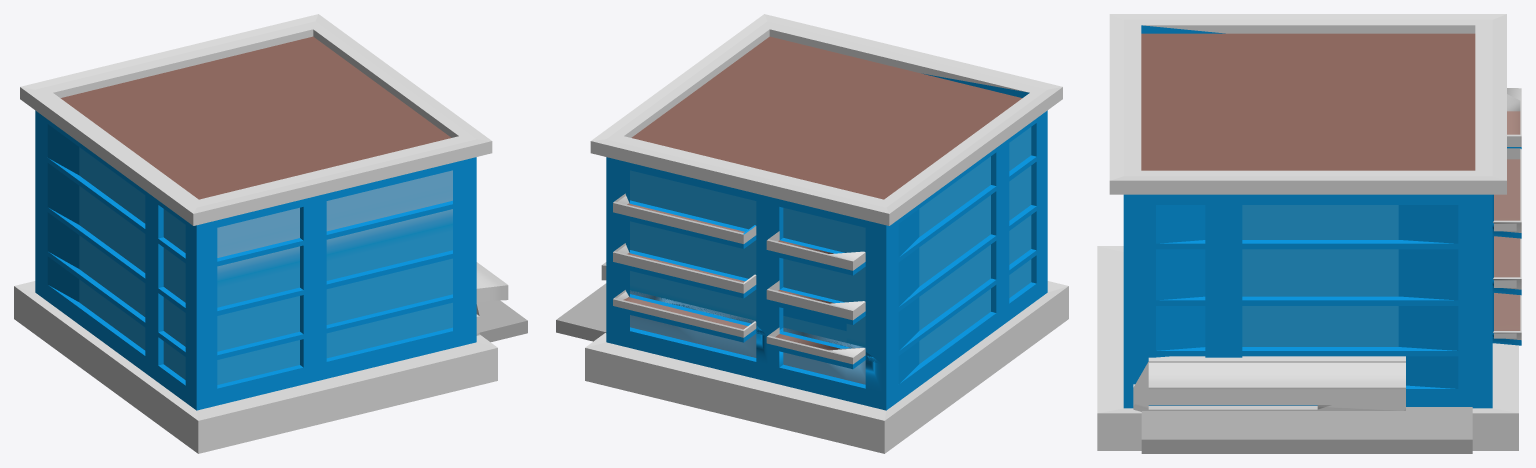
The model's file is BlueBuilding4x4x3.fbx.
3 views of the same model, side by side, from view 1: azimuth 30°, elevation 25°; view 2: azimuth 150°, elevation 25°; view 3: azimuth 270°, elevation 25° (orthographic). The views are drawn at different scales.
Parts seen in each view (by area): view 1: House; view 2: House; view 3: House.
Boxes of the visible parts, <box> form: House: <box>14,14,527,453</box>; House: <box>556,14,1068,453</box>; House: <box>1097,14,1521,453</box>.
Bounding box in the file's own units: 4.6 × 2.97 × 4.23.
1 material, 1 textured.
